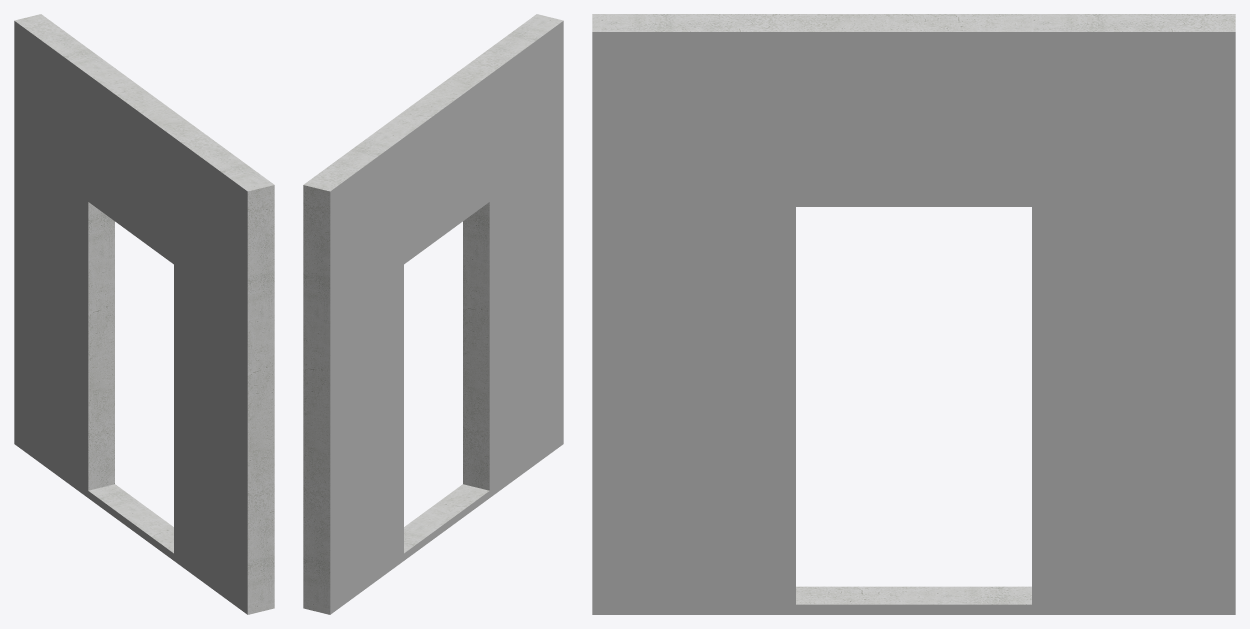
The model's file is wall01_door1m.fbx.
The picture shows the model from 3 angles, left to right: view 1: azimuth 30°, elevation 25°; view 2: azimuth 150°, elevation 25°; view 3: azimuth 270°, elevation 25°; orthographic projection. The views are drawn at different scales.
Visible parts, largest first — view 1: wall01_door1m; view 2: wall01_door1m; view 3: wall01_door1m.
Part boxes in pixels (<box>): wall01_door1m: <box>14,14,274,614</box>; wall01_door1m: <box>303,14,563,614</box>; wall01_door1m: <box>592,14,1235,614</box>.
Bounding box in the file's own units: 20 × 300 × 300.
